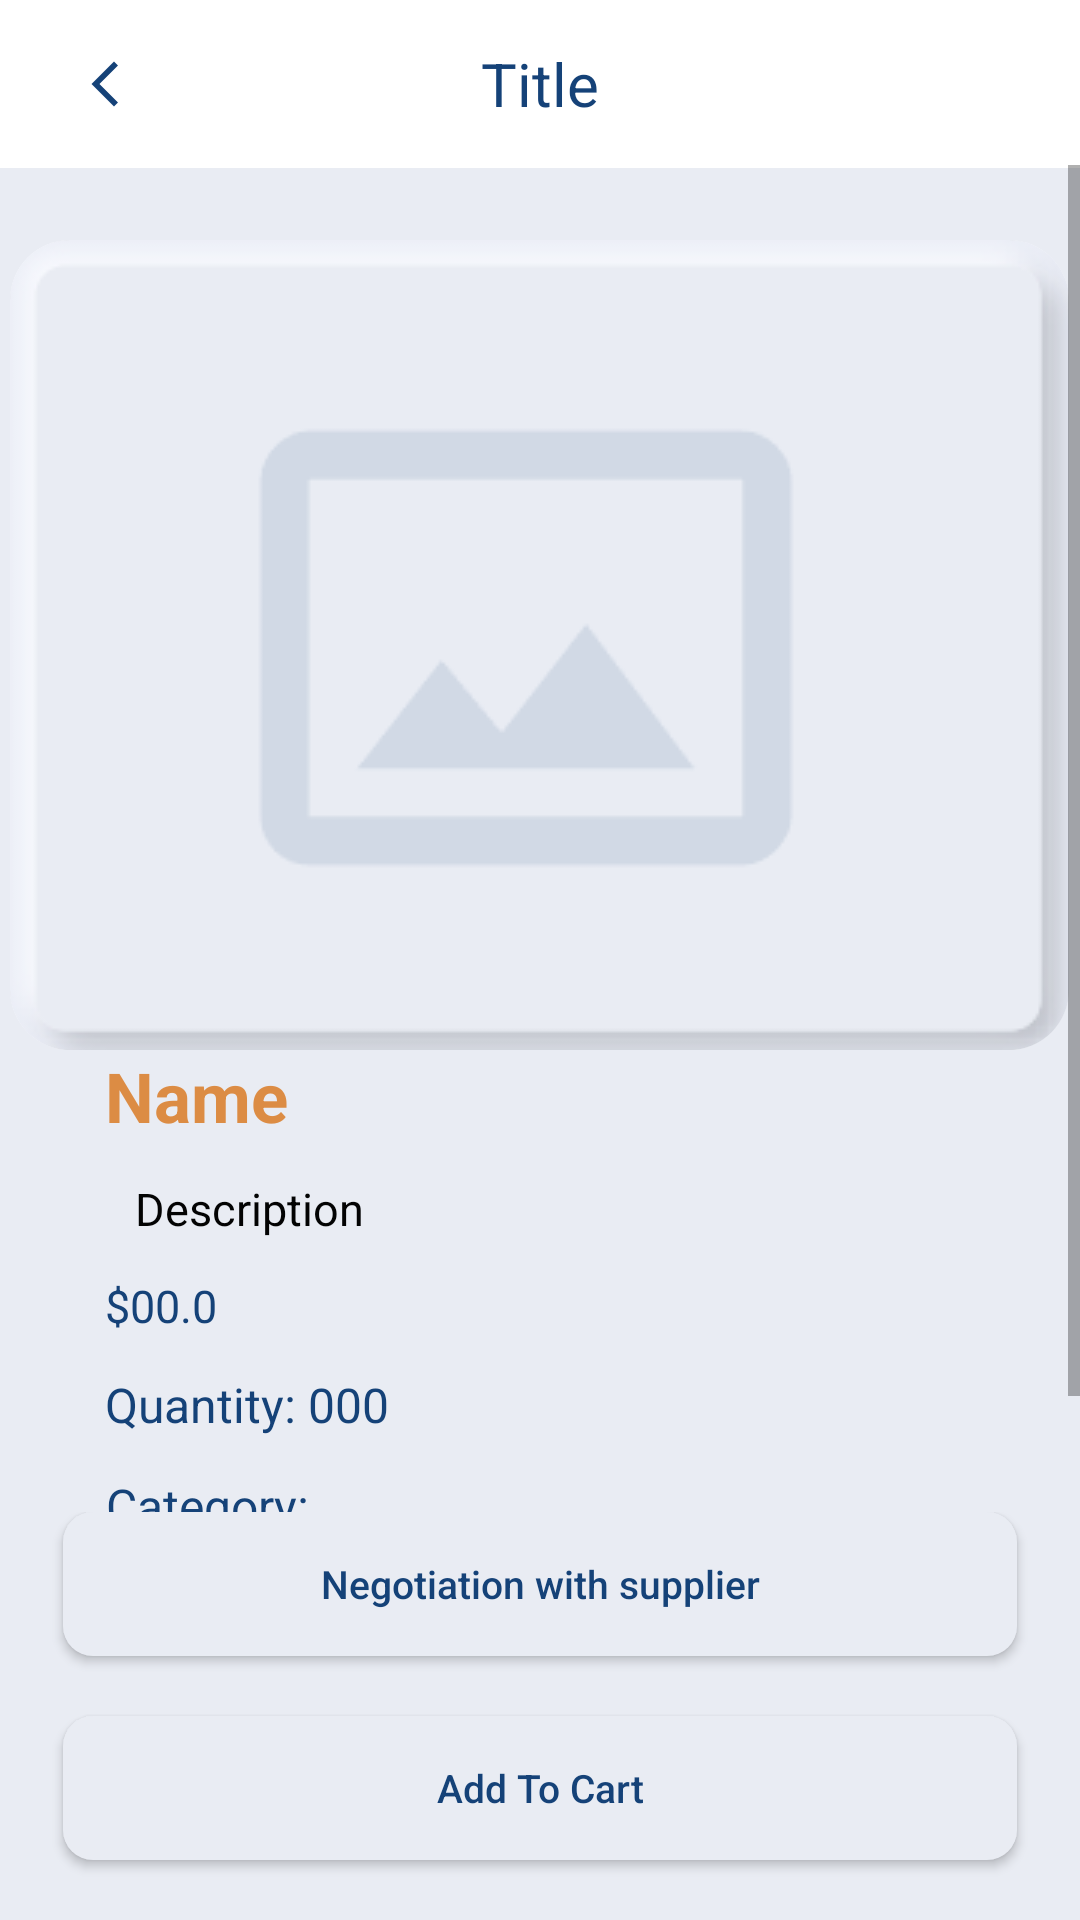

Named icons in this screenshot (1080 x 1920) and their centers, (x=x, y=y):
Back Button: (x=104, y=84)
